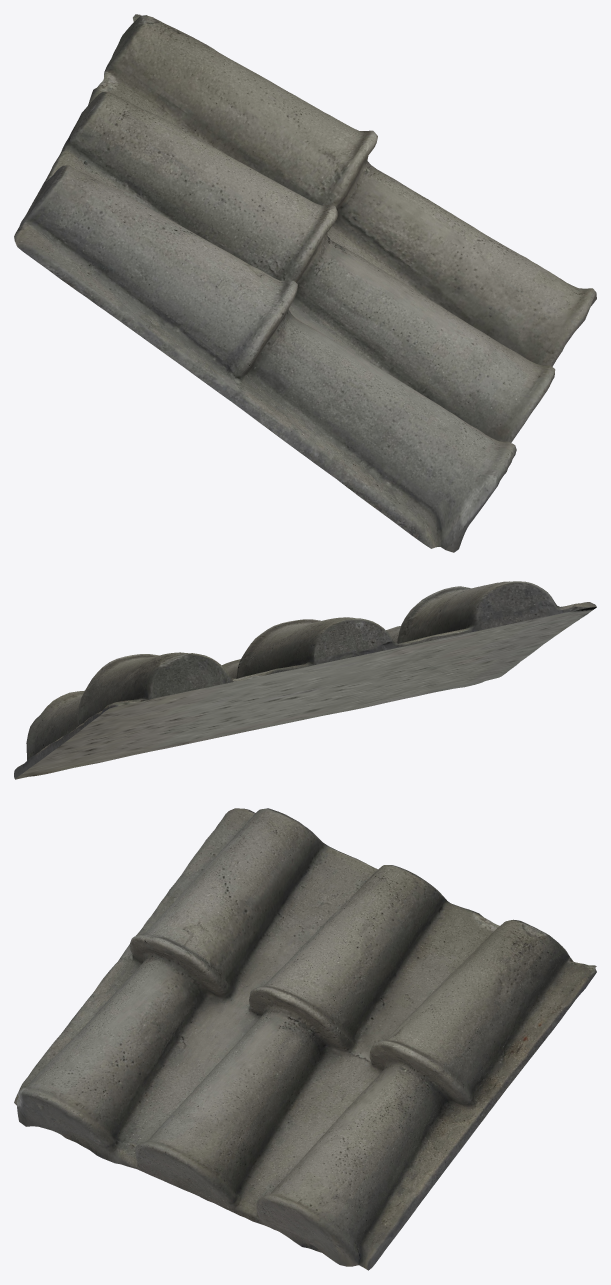
Rendered from Retopo_3DModel_mesh.008.glb.
3 renders of one model, top to bottom at view 1: azimuth 30°, elevation 25°; view 2: azimuth 150°, elevation 25°; view 3: azimuth 270°, elevation 25°, orthographic. The views are drawn at different scales.
Parts seen in each view (by area): view 1: Retopo_3DModel_mesh.008; view 2: Retopo_3DModel_mesh.008; view 3: Retopo_3DModel_mesh.008.
Part boxes in pixels (bbox=[...]): Retopo_3DModel_mesh.008: bbox=[14, 14, 596, 552]; Retopo_3DModel_mesh.008: bbox=[14, 581, 596, 779]; Retopo_3DModel_mesh.008: bbox=[14, 808, 596, 1270].
Bounding box in the file's own units: 5.17 × 2.63 × 5.44.
Materials: 1 (1 with a texture image).
